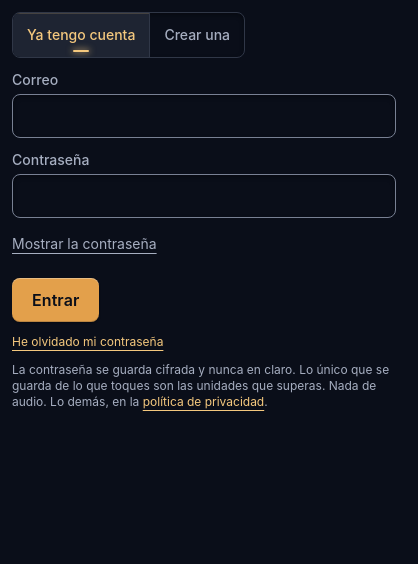
Test case: entrar › cambiar de pestaña borra el error de la anterior
Type "a@b.c" into the field labelled "Correo" at (204, 116), box [12,94,396,138]
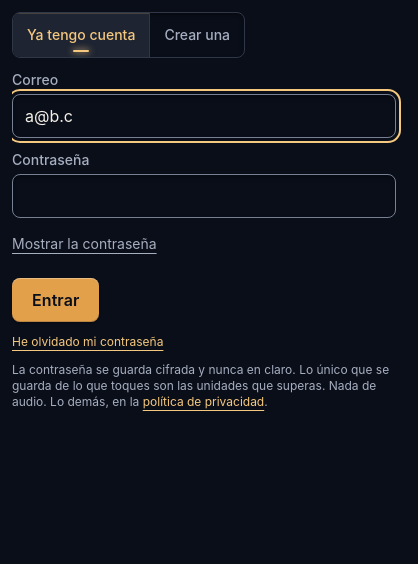
Type "mal" into the password field labelled "Contraseña" at (204, 196), box [12,174,396,218]
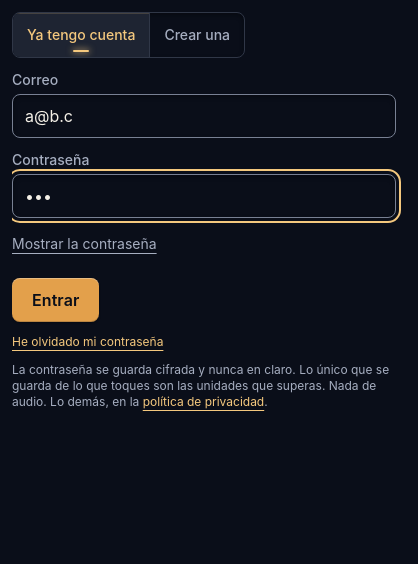
Click the button "Entrar" at (56, 300), box [12,278,99,322]
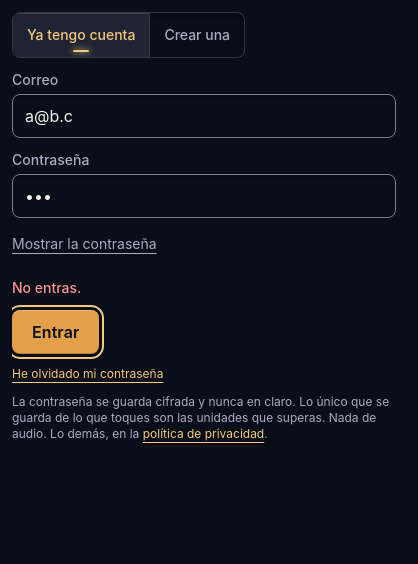
Expected: the text "No entras." is shown, [12,279,81,296]
Click the button "Crear una" at (197, 35), box [149,13,244,57]
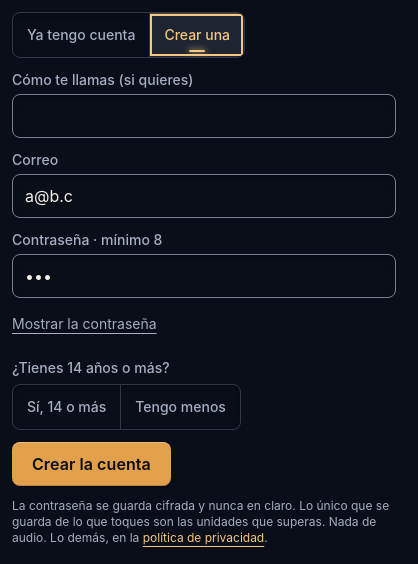
Expected: the text "No entras." is gone
